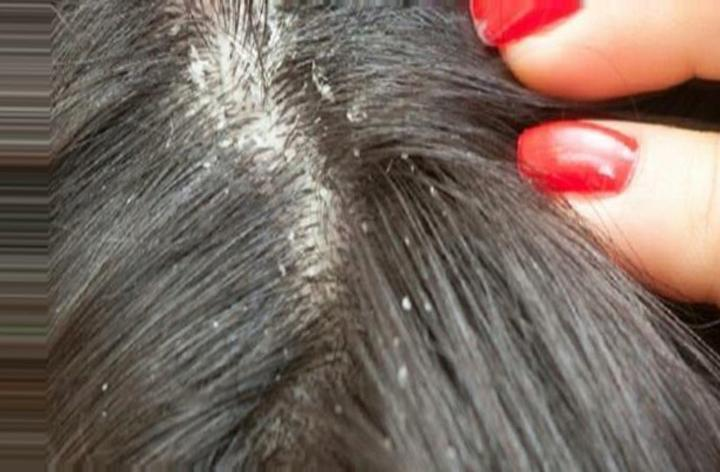Contact Dermatitis: (122, 21, 465, 459)
